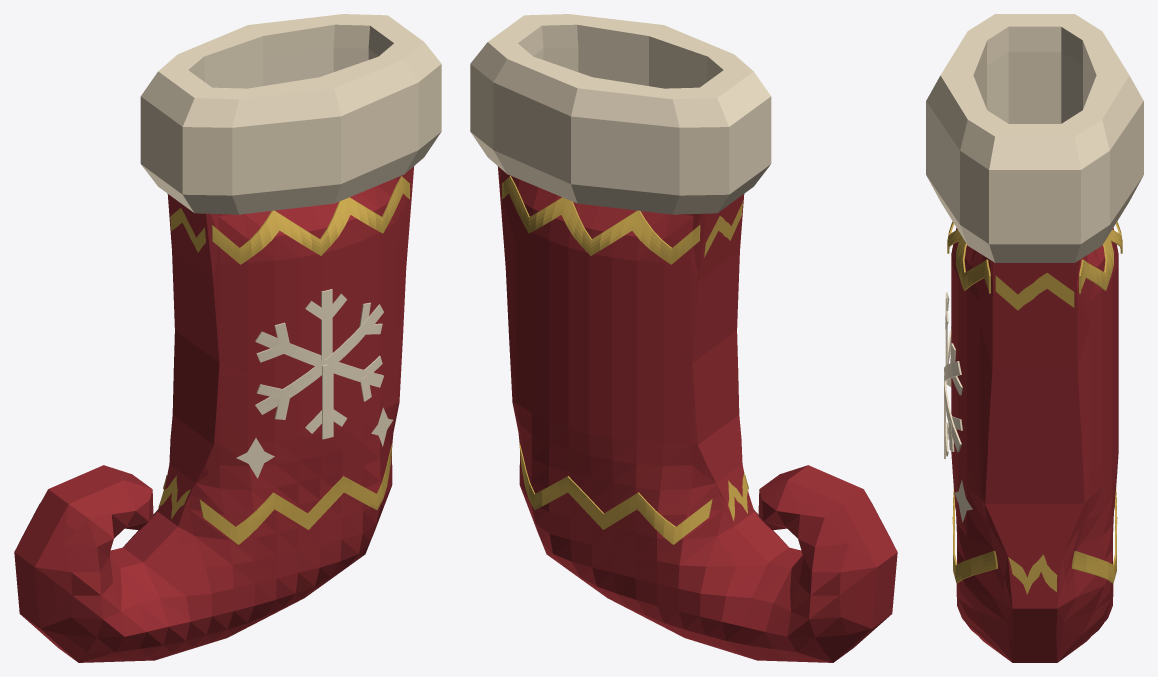
File: 08 Christmas Stocking.glb
3 renders of one model, left to right at view 1: azimuth 30°, elevation 25°; view 2: azimuth 150°, elevation 25°; view 3: azimuth 270°, elevation 25°, orthographic. The views are drawn at different scales.
Visible parts, largest first — view 1: Hollow stocking with curled toe, Thick open ivory cuff, Upper golden chevron band, Lower golden chevron band, Ivory snowflake spoke.003, Ivory snowflake spoke.005, Ivory snowflake spoke.002, Ivory snowflake spoke.001, Ivory snowflake spoke, Ivory snowflake spoke.004; view 2: Hollow stocking with curled toe, Thick open ivory cuff, Upper golden chevron band.001, Lower golden chevron band.001; view 3: Hollow stocking with curled toe, Thick open ivory cuff, Right Upper gold band, Upper golden chevron band, Upper golden chevron band.001, Lower golden chevron band, Lower golden chevron band.001, Right Lower gold band, Ivory snowflake spoke.004.
Part boxes in pixels (x1,y1,x2,y2): Hollow stocking with curled toe: [14, 166, 414, 662]; Thick open ivory cuff: [140, 14, 441, 214]; Upper golden chevron band: [211, 176, 409, 264]; Lower golden chevron band: [199, 444, 392, 544]; Ivory snowflake spoke.003: [322, 363, 333, 439]; Ivory snowflake spoke.005: [325, 304, 383, 366]; Ivory snowflake spoke.002: [255, 362, 321, 414]; Ivory snowflake spoke.001: [255, 331, 321, 368]; Ivory snowflake spoke: [321, 289, 332, 365]; Ivory snowflake spoke.004: [328, 359, 383, 387]; Hollow stocking with curled toe: [497, 166, 897, 662]; Thick open ivory cuff: [470, 14, 771, 214]; Upper golden chevron band.001: [502, 176, 700, 264]; Lower golden chevron band.001: [519, 444, 712, 544]; Hollow stocking with curled toe: [951, 228, 1118, 662]; Thick open ivory cuff: [926, 14, 1143, 262]; Right Upper gold band: [995, 273, 1074, 310]; Upper golden chevron band: [947, 221, 990, 293]; Upper golden chevron band.001: [1079, 221, 1122, 293]; Lower golden chevron band: [952, 488, 997, 583]; Lower golden chevron band.001: [1072, 488, 1117, 583]; Right Lower gold band: [1008, 554, 1057, 594]; Ivory snowflake spoke.004: [944, 372, 961, 452].
Bounding box in the file's own units: 5.14 × 6.95 × 2.23.
